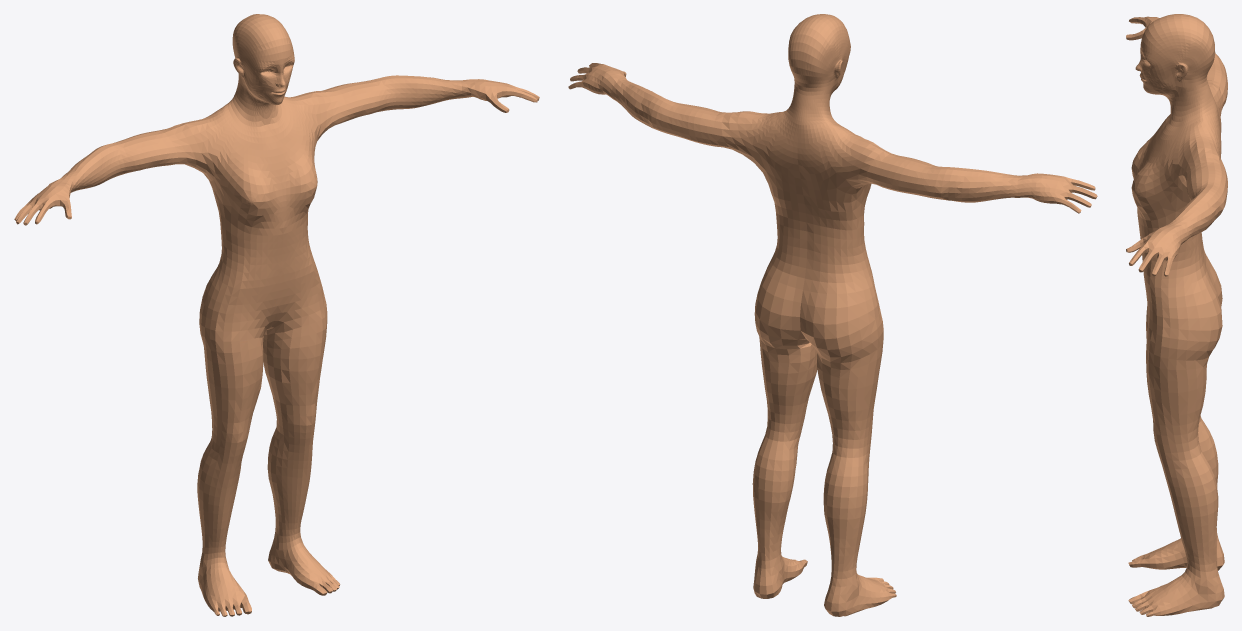
The picture shows the model from 3 angles, left to right: view 1: azimuth 30°, elevation 25°; view 2: azimuth 150°, elevation 25°; view 3: azimuth 270°, elevation 25°; orthographic projection.
Parts seen in each view (by area): view 1: Group1; view 2: Group1; view 3: Group1.
Part boxes in pixels (x1,y1,x2,y2): Group1: [14, 14, 539, 616]; Group1: [568, 14, 1097, 616]; Group1: [1126, 14, 1227, 616].
Bounding box in the file's own units: 31.43 × 33.2 × 5.37.
Materials: 1 (1 with a texture image).
